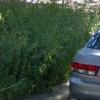Car: (54, 25, 100, 99)
